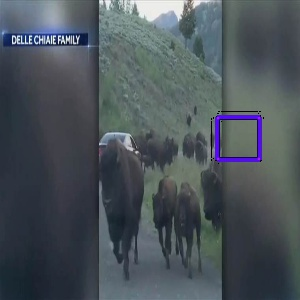square: (212, 111, 265, 165)
